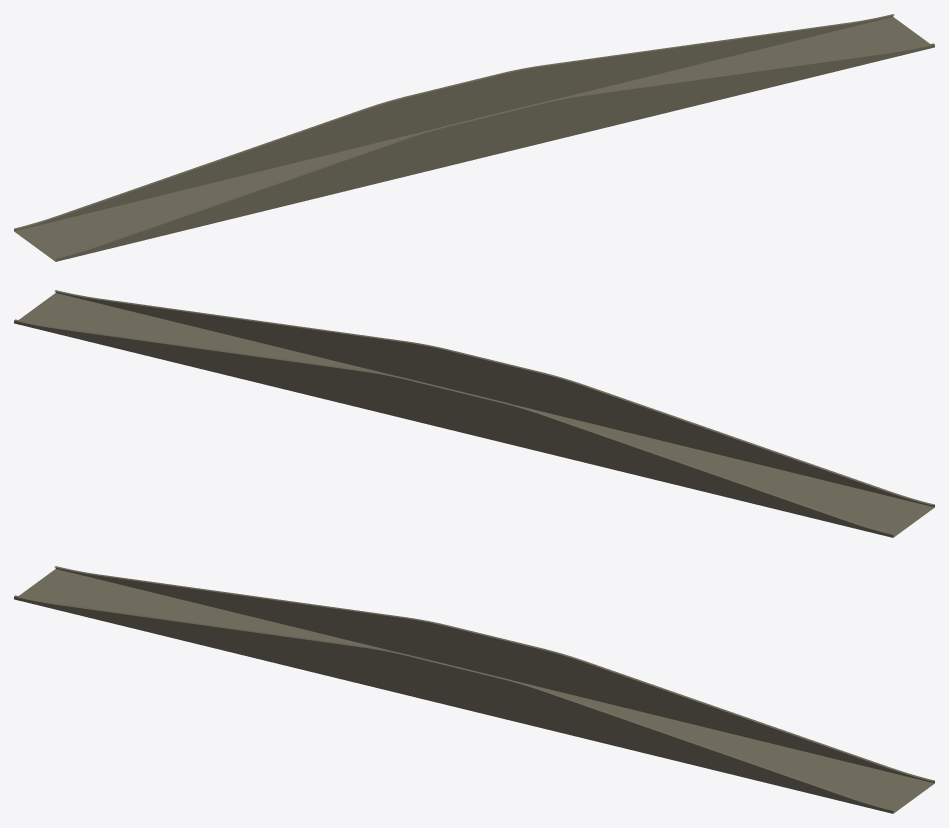
The model's file is hill_retaining.dae.
3 renders of one model, top to bottom at view 1: azimuth 30°, elevation 25°; view 2: azimuth 150°, elevation 25°; view 3: azimuth 330°, elevation 25°, orthographic.
Parts seen in each view (by area): view 1: hill_retaining_0_L1; view 2: hill_retaining_0_L1; view 3: hill_retaining_0_L1.
Boxes of the visible parts, x1,y1,x2,y2 form: hill_retaining_0_L1: (14,14,934,261); hill_retaining_0_L1: (14,290,934,537); hill_retaining_0_L1: (14,566,934,813).
Size of the model in its own units: 57.94 by 4.76 by 2.48.
